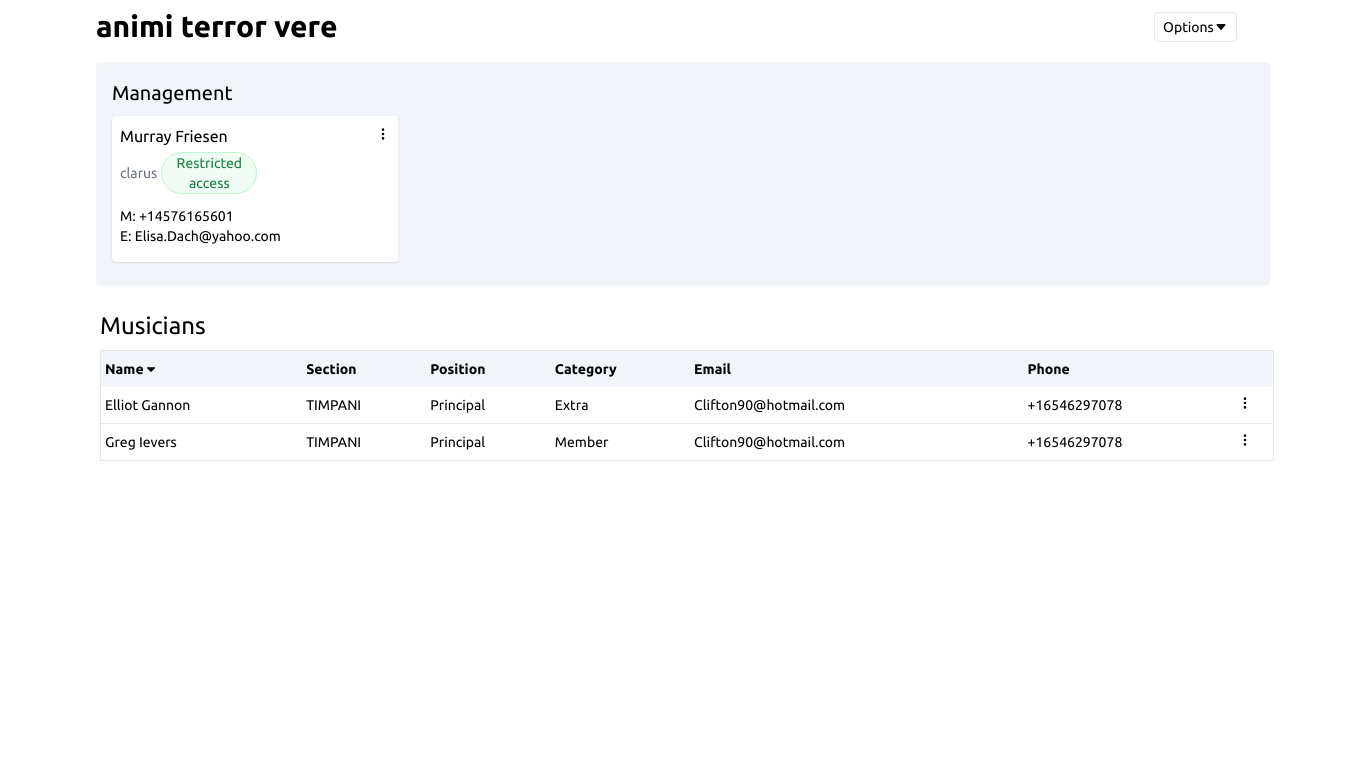
<EnsembleIndex /> › <CreateContactForm /> renders when Edit contact btn clicked
Click the button "Contact Options" in the row of "Elliot" at [1246, 403], box [1238,396,1252,410]
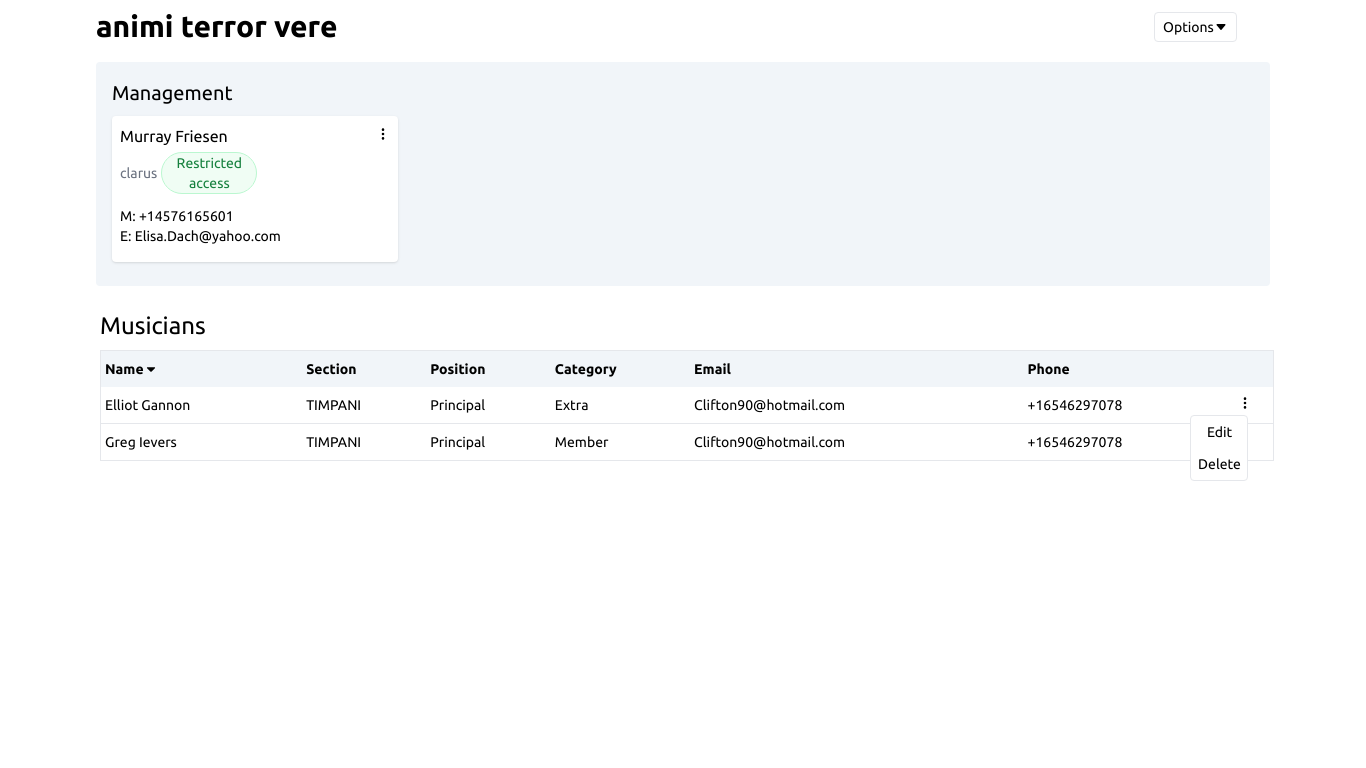
Click the button "Edit" at [1220, 432], box [1192,416,1248,448]
(page scrolled)
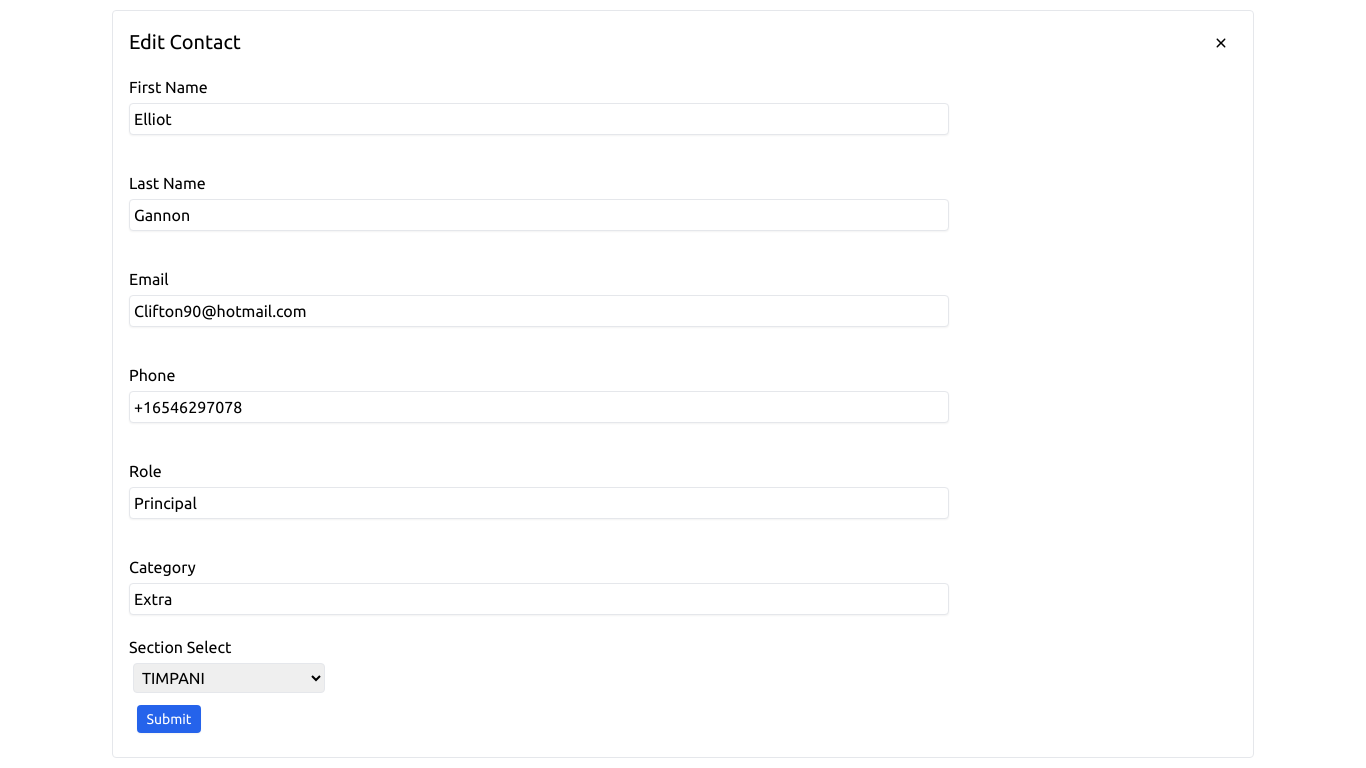
Now the element with test id "create-contact-form" is shown
